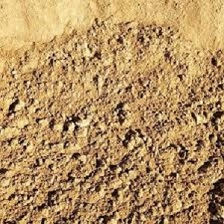sandy_soil: (9, 20, 211, 212)
